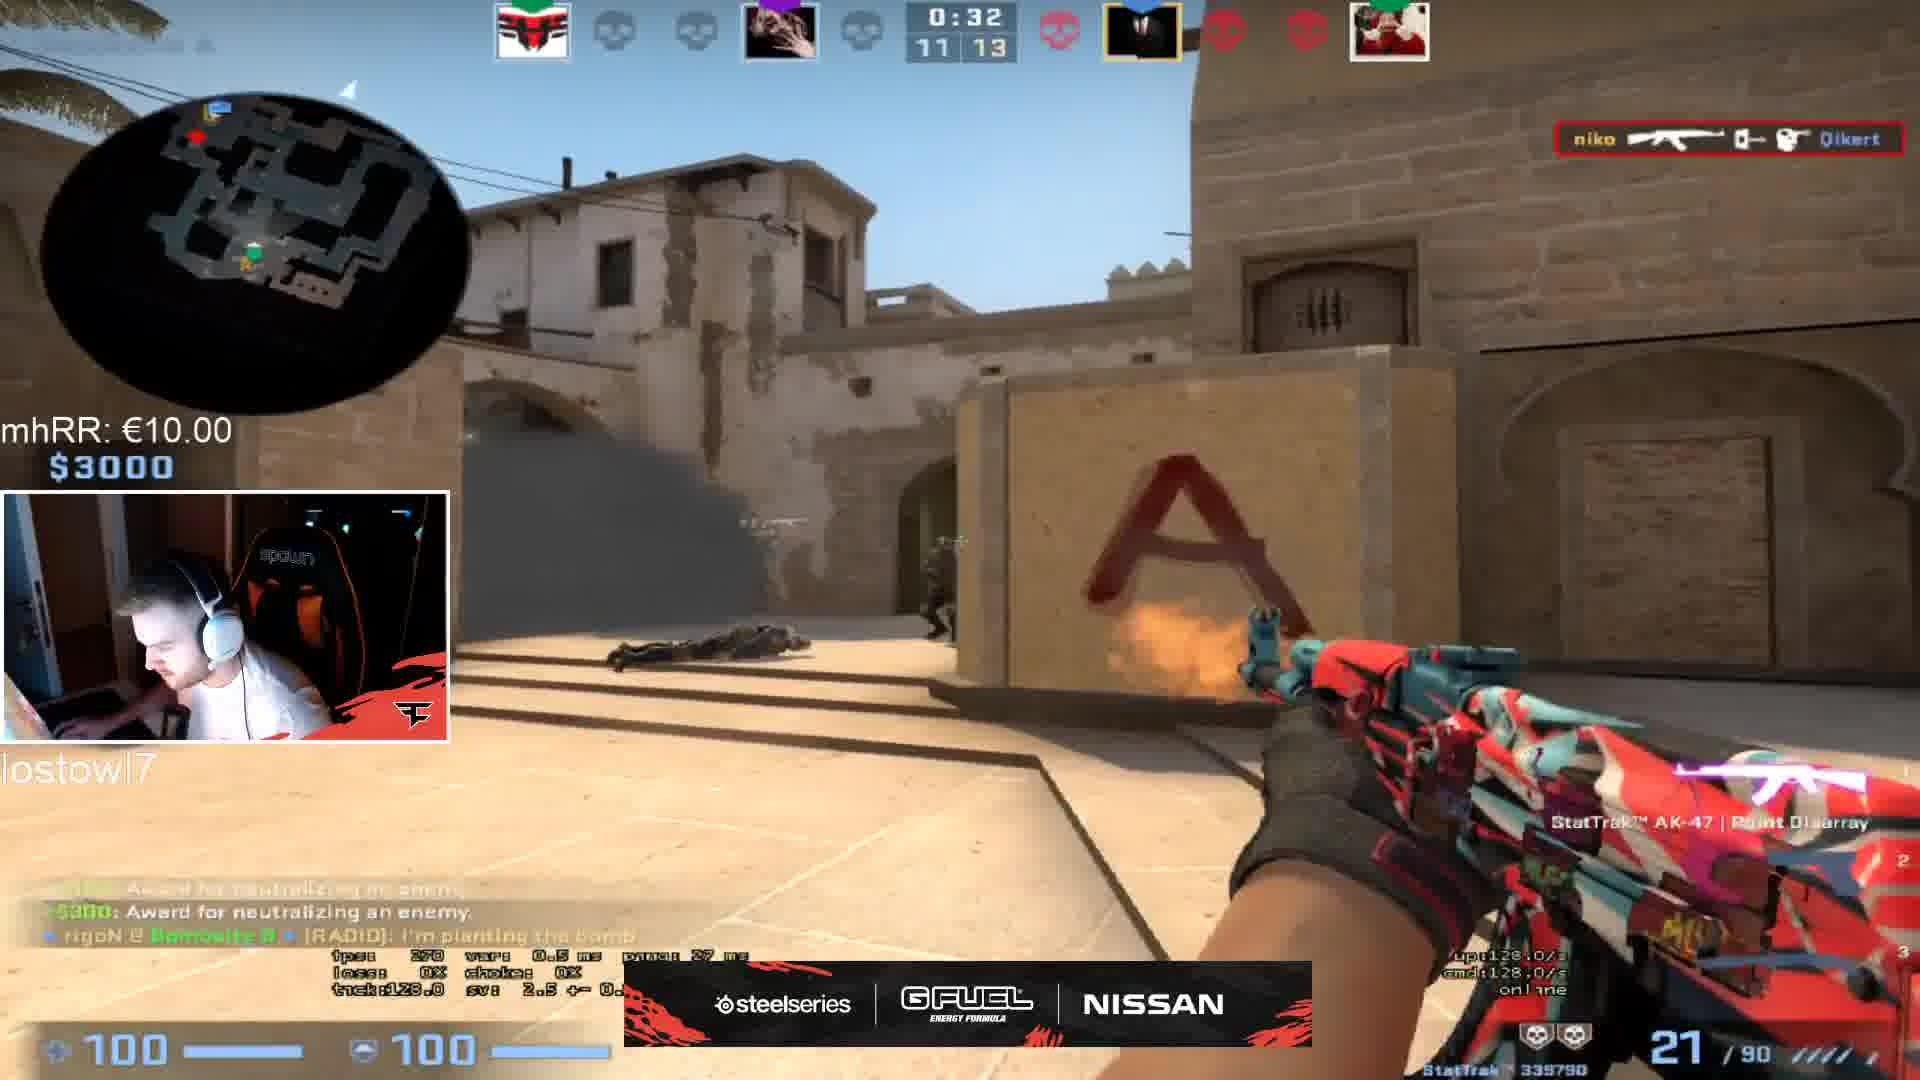enemy: (915, 531, 965, 645)
